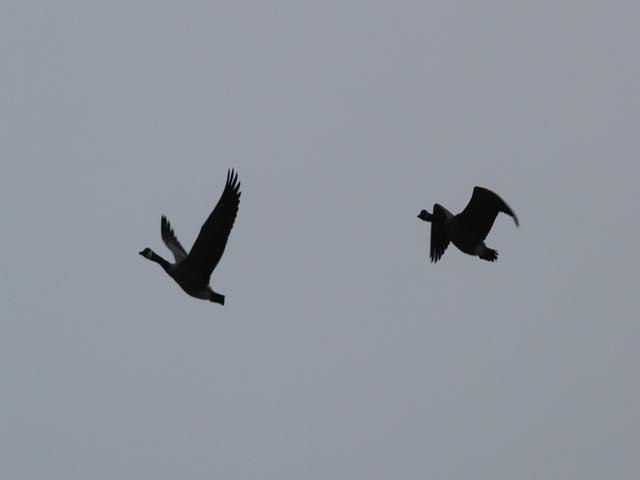bird: (69, 158, 300, 373), (395, 156, 553, 279)
